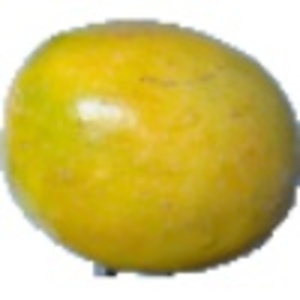maracujá: (1, 18, 300, 281)
